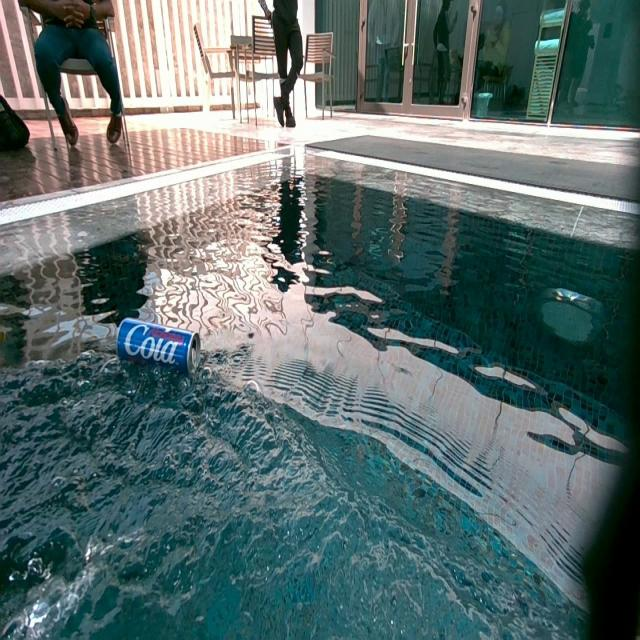Cans: (116, 317, 201, 376)
